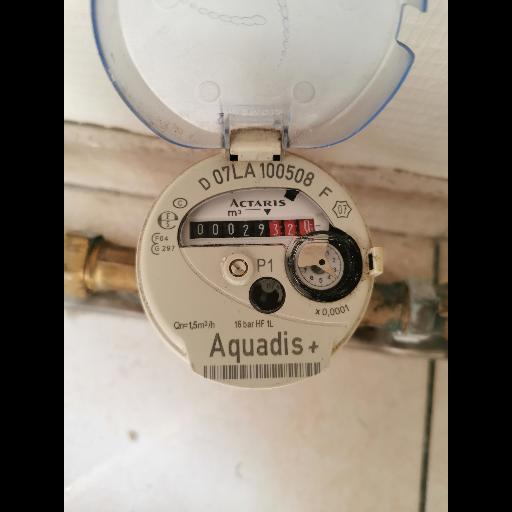0: (299, 218, 315, 236), (226, 221, 237, 238), (196, 222, 206, 239), (211, 222, 221, 239)
2: (241, 221, 252, 238), (285, 220, 296, 237)
3: (269, 219, 280, 237)
9: (255, 221, 266, 238)
border_water_meter_number: (188, 215, 317, 242)
